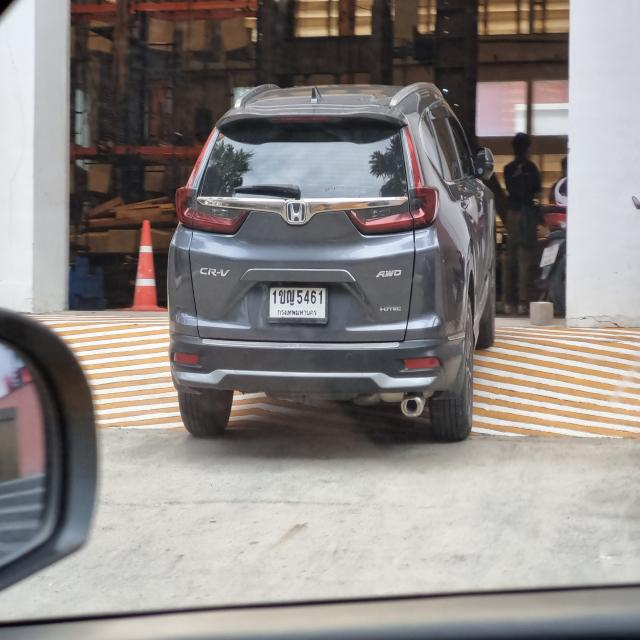license_plate: (264, 280, 330, 322)
